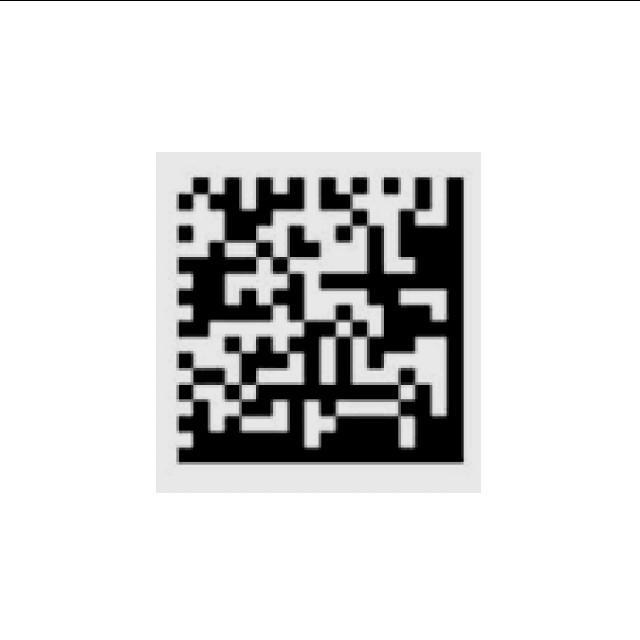Data-Matrix: (156, 151, 481, 492)
